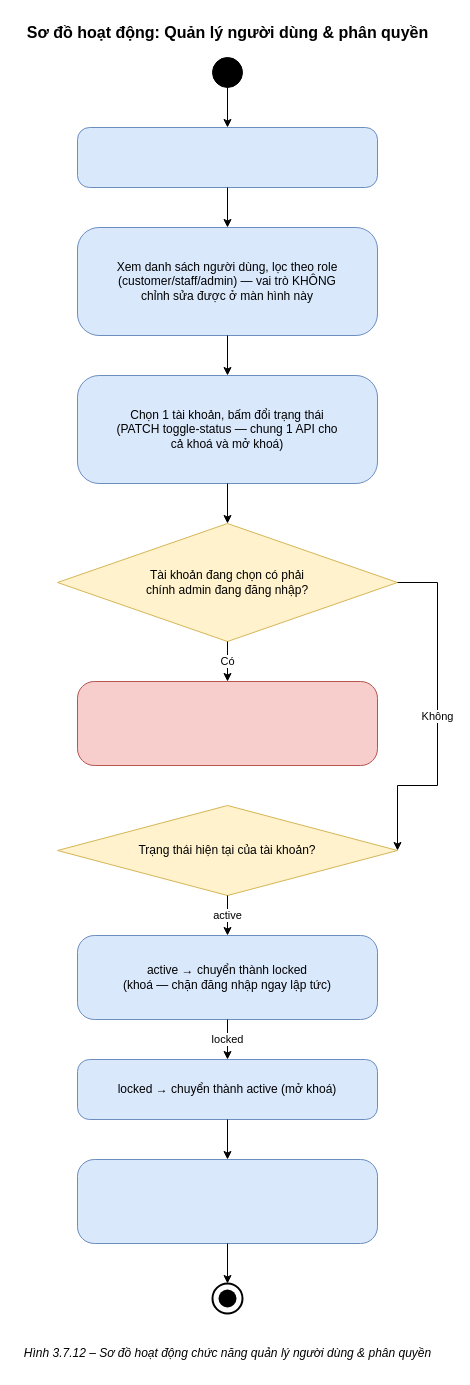
Some shapes in this 470 by 1385 pixel diagram are drawn without their labels. Here are the shapes that lost their labels. From the top down, the centre of each, then its label:
the point at 227,157: Admin mở /admin/users
the point at 227,723: Chặn thao tác, báo lỗi "không thể tự khoá chính mình"
the point at 227,1201: Ghi audit_logs (AuditLog::log('user.status_toggled', ...))
